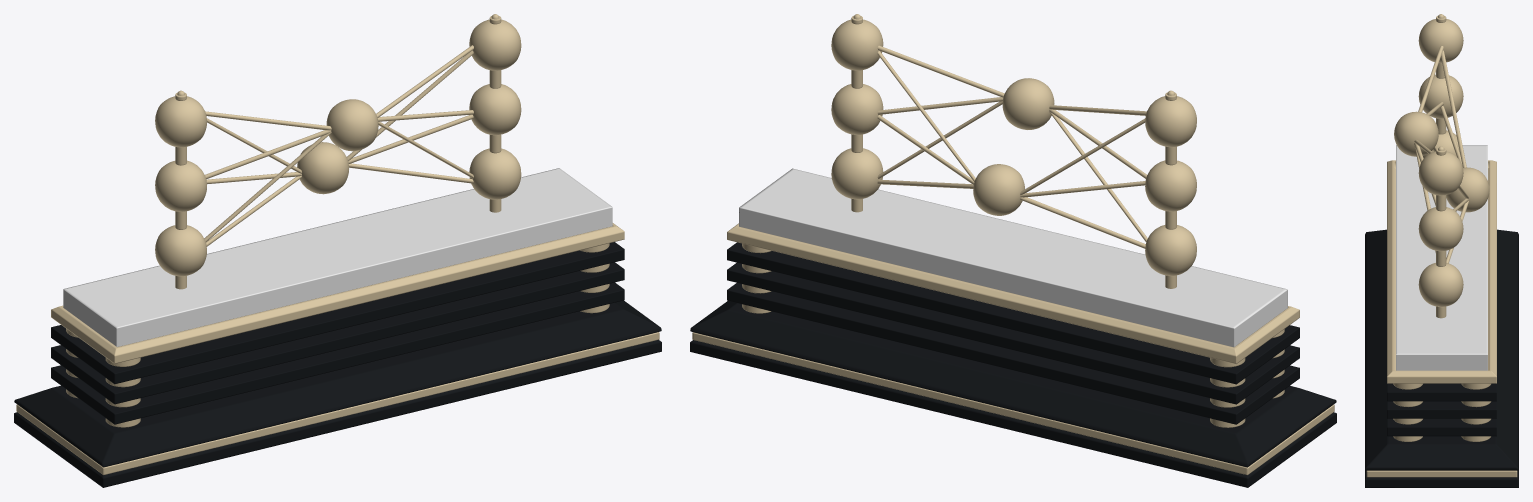
The model's file is neural_network_statue.fbx.
3 renders of one model, left to right at view 1: azimuth 30°, elevation 25°; view 2: azimuth 150°, elevation 25°; view 3: azimuth 270°, elevation 25°, orthographic. The views are drawn at different scales.
Parts seen in each view (by area): view 1: neural_network_statue_plastic_object, neural_network_statue_gold_object, neural_network_statue_glass_object; view 2: neural_network_statue_plastic_object, neural_network_statue_gold_object, neural_network_statue_glass_object; view 3: neural_network_statue_plastic_object, neural_network_statue_gold_object, neural_network_statue_glass_object.
Boxes of the visible parts, left/top/right/bottom form: neural_network_statue_plastic_object: left=14, top=242, right=661, bottom=487; neural_network_statue_gold_object: left=16, top=14, right=659, bottom=474; neural_network_statue_glass_object: left=63, top=168, right=612, bottom=346; neural_network_statue_plastic_object: left=690, top=242, right=1336, bottom=487; neural_network_statue_gold_object: left=692, top=14, right=1334, bottom=474; neural_network_statue_glass_object: left=739, top=168, right=1287, bottom=347; neural_network_statue_plastic_object: left=1365, top=229, right=1518, bottom=487; neural_network_statue_gold_object: left=1366, top=14, right=1517, bottom=477; neural_network_statue_glass_object: left=1396, top=145, right=1487, bottom=370.
Bounding box in the file's own units: 14.98 × 8.59 × 4.14.
